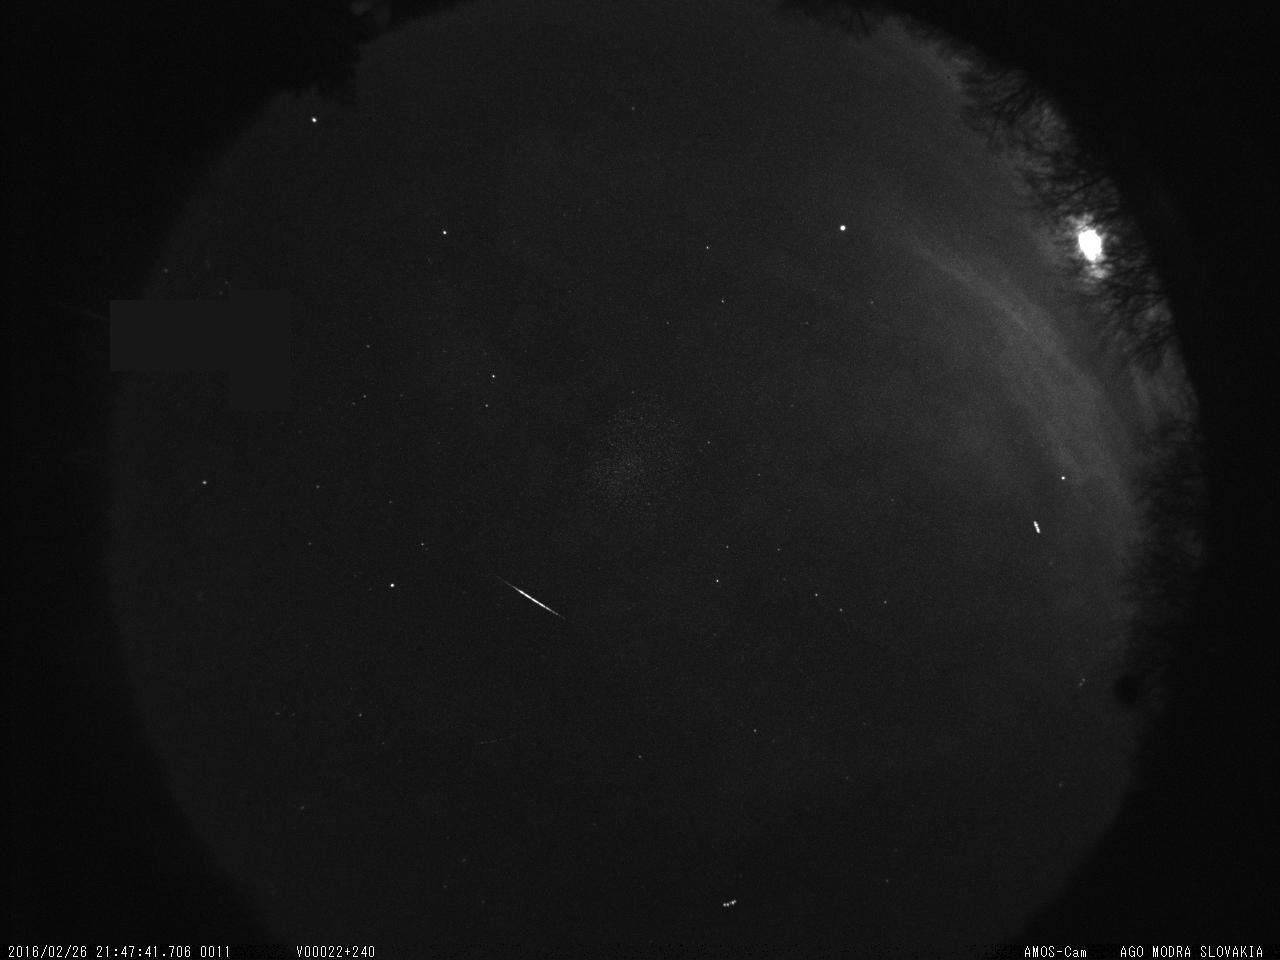meteor: (502, 574, 571, 626)
satelite: (715, 895, 742, 916)
